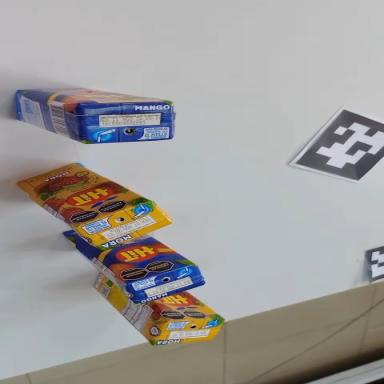HIT-MANGO: (52, 195, 211, 329), (16, 88, 175, 143)
HIT-MORA: (7, 142, 176, 273), (86, 274, 228, 358)
cara_F: (11, 142, 153, 253), (59, 229, 199, 288), (18, 86, 171, 107), (147, 290, 224, 321)
